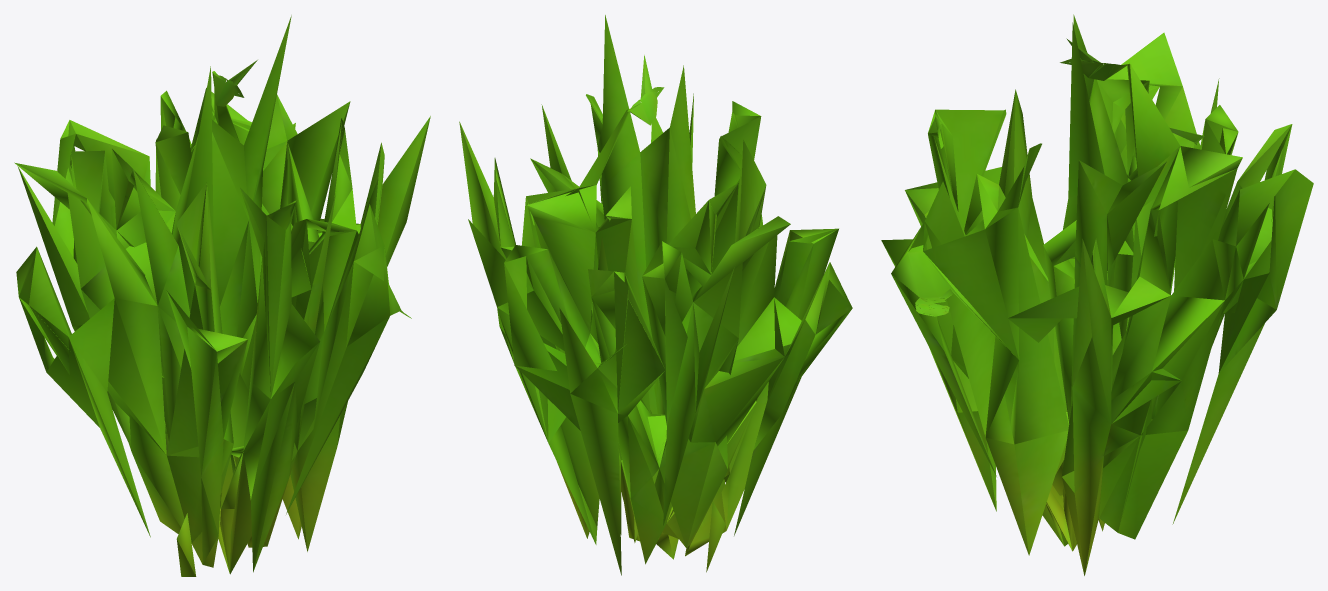
File: bamboo.glb
3 renders of one model, left to right at view 1: azimuth 30°, elevation 25°; view 2: azimuth 150°, elevation 25°; view 3: azimuth 270°, elevation 25°, orthographic. The views are drawn at different scales.
Parts seen in each view (by area): view 1: model; view 2: model; view 3: model.
Boxes of the visible parts, <box> form: model: <box>14,15,430,576</box>; model: <box>459,15,852,575</box>; model: <box>881,14,1313,575</box>.
Bounding box in the file's own units: 1.35 × 1.75 × 1.23.
Materials: 1 (1 with a texture image).
